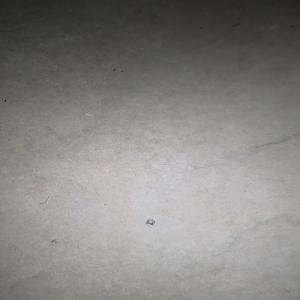Nut: (145, 219, 156, 226)
